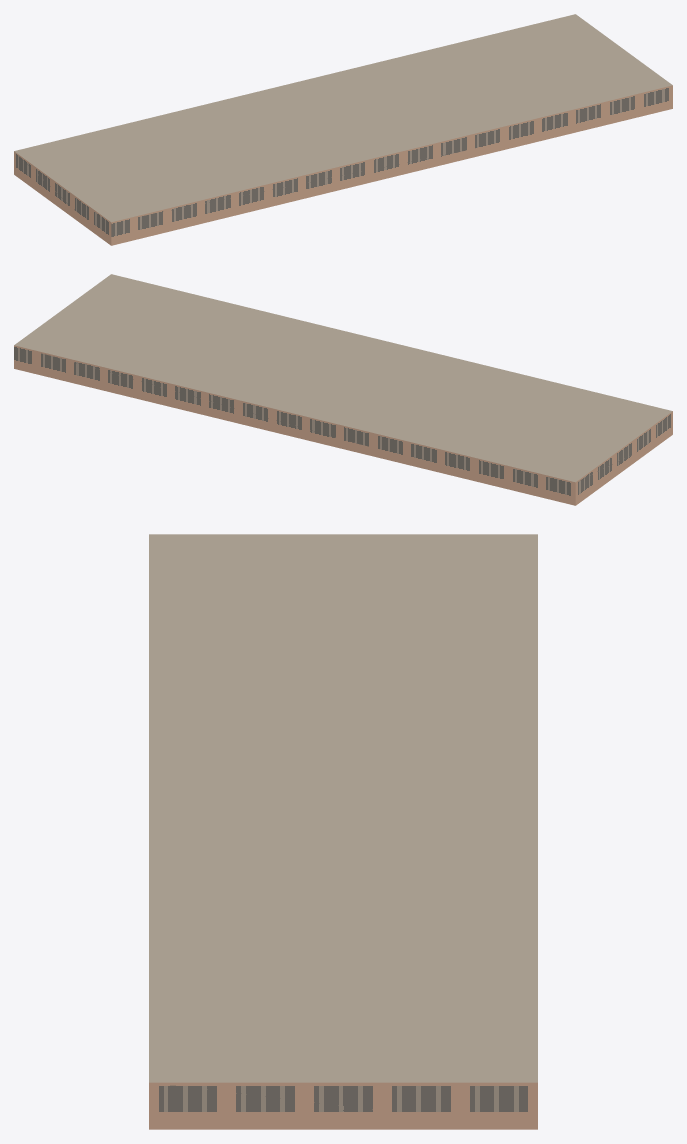
File: elevated-section.glb
3 views of the same model, one above another, from view 1: azimuth 30°, elevation 25°; view 2: azimuth 150°, elevation 25°; view 3: azimuth 270°, elevation 25° (orthographic). The views are drawn at different scales.
Parts seen in each view (by area): view 1: Elevated section; view 2: Elevated section; view 3: Elevated section.
Part boxes in pixels (box(x1,y1,x2,y2)): Elevated section: box(14, 14, 672, 245); Elevated section: box(14, 274, 672, 505); Elevated section: box(149, 534, 537, 1129).
Bounding box in the file's own units: 50 × 2 × 15.
Materials: 2 (1 with a texture image).
